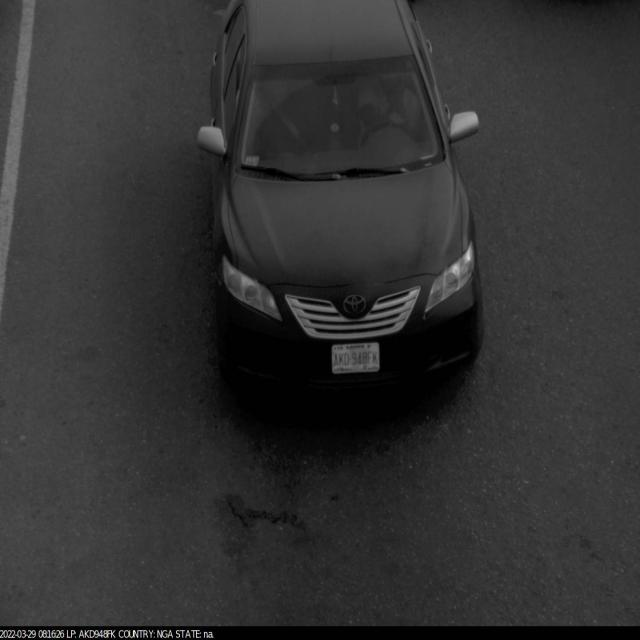windshield: (231, 48, 452, 181)
